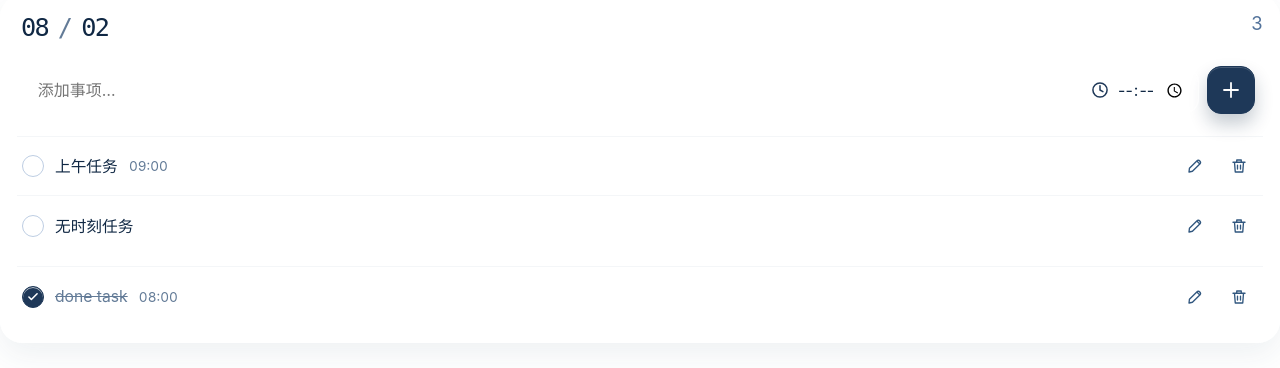
Test: TodoSection › checks a todo immediately while the server update is pending
Click the checkbox named "完成 上午任务" at (33, 166), box [22, 155, 44, 177]
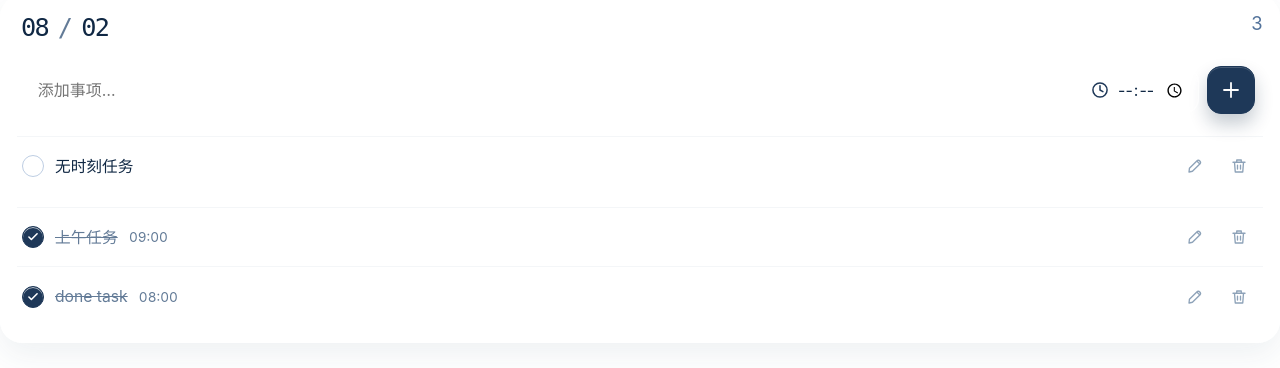
Expected: the checkbox named "完成 上午任务" is checked, [22, 226, 44, 248]
